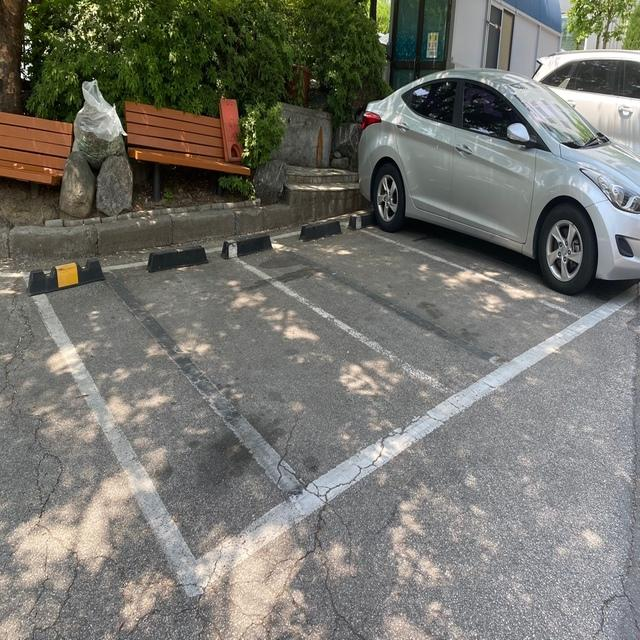empty: (25, 241, 475, 599), (219, 217, 600, 414)
